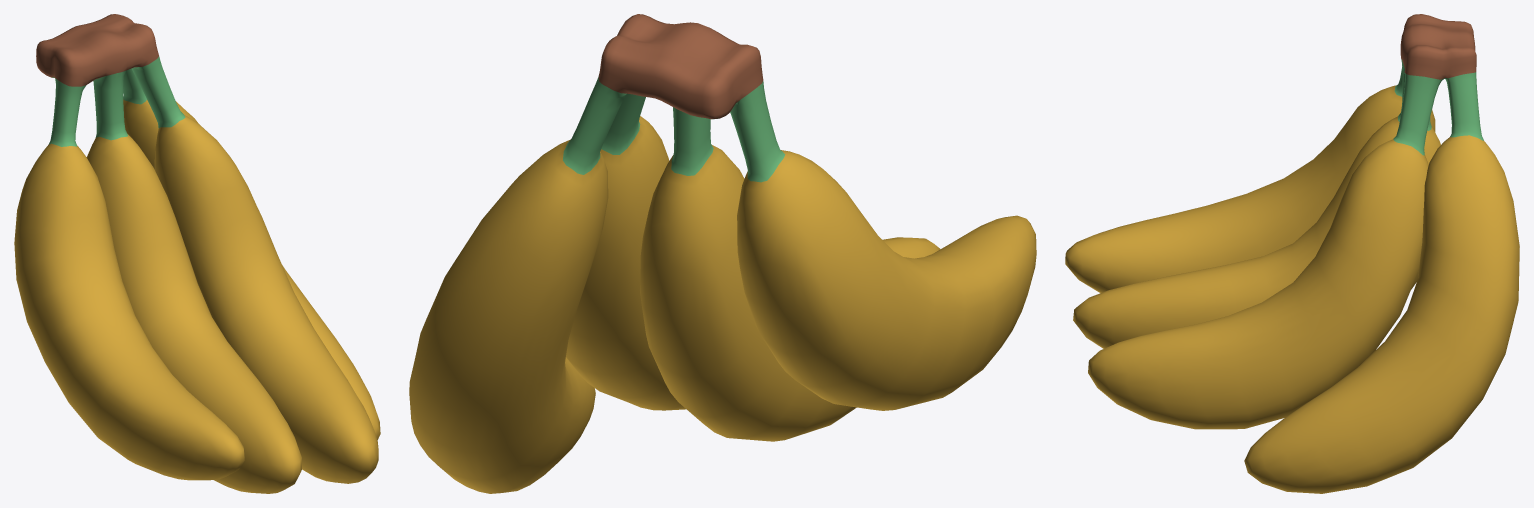
The model's file is Bananacomb_03.dae.
3 views of the same model, side by side, from view 1: azimuth 30°, elevation 25°; view 2: azimuth 150°, elevation 25°; view 3: azimuth 270°, elevation 25° (orthographic). The views are drawn at different scales.
Visible parts, largest first — view 1: Bananacomb_03_LOD0; view 2: Bananacomb_03_LOD0; view 3: Bananacomb_03_LOD0.
Part boxes in pixels (x1,y1,x2,y2): Bananacomb_03_LOD0: (14, 14, 380, 493); Bananacomb_03_LOD0: (409, 14, 1036, 493); Bananacomb_03_LOD0: (1065, 14, 1519, 493).
Size of what is drawn, in the model's own units: 5.69 by 7.35 by 6.87.
